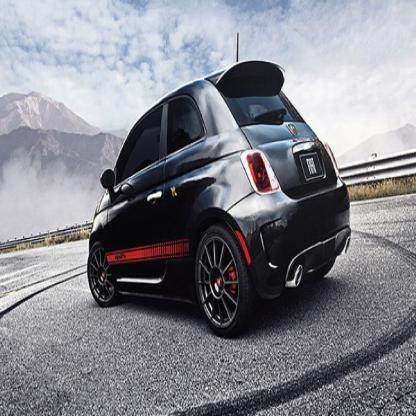Vehicle: (87, 34, 352, 339)
